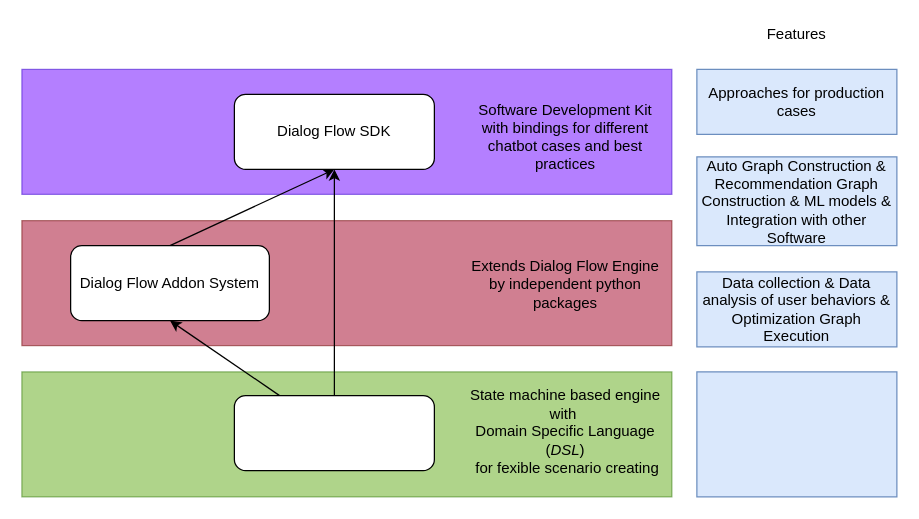
Image size: 919x519. Some labels were removed from this diagram. Here are the shapes that lost their labels. From the top down, the centre of each, then its label:
the point at 333,432: Dialog Flow Engine
the point at 796,434: Rule-based dialog graph as dialog scenario
